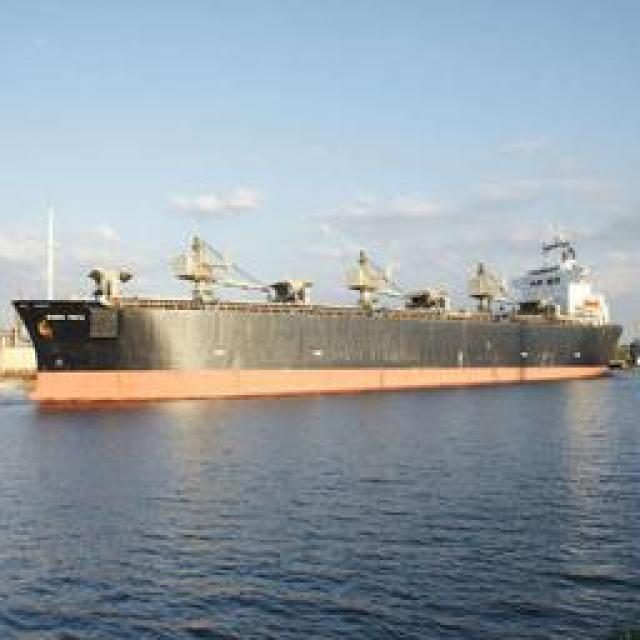CIV_Ship: (19, 248, 622, 404)
